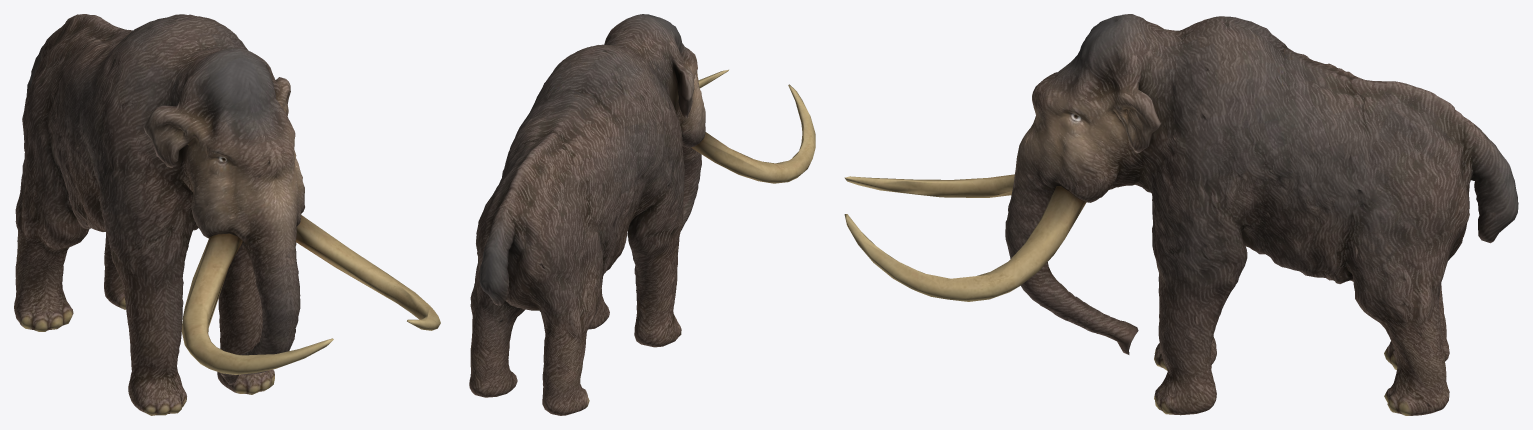
The model's file is MZ4250 - Mammoth.glb.
3 views of the same model, side by side, from view 1: azimuth 30°, elevation 25°; view 2: azimuth 150°, elevation 25°; view 3: azimuth 270°, elevation 25° (orthographic). The views are drawn at different scales.
Visible parts, largest first — view 1: Mammoth t.001; view 2: Mammoth t.001; view 3: Mammoth t.001.
Boxes of the visible parts, x1,y1,x2,y2 form: Mammoth t.001: (14,14,440,415); Mammoth t.001: (469,14,815,415); Mammoth t.001: (844,14,1518,415).
Bounding box in the file's own units: 1.15 × 1.76 × 2.93.
1 material, 1 textured.
